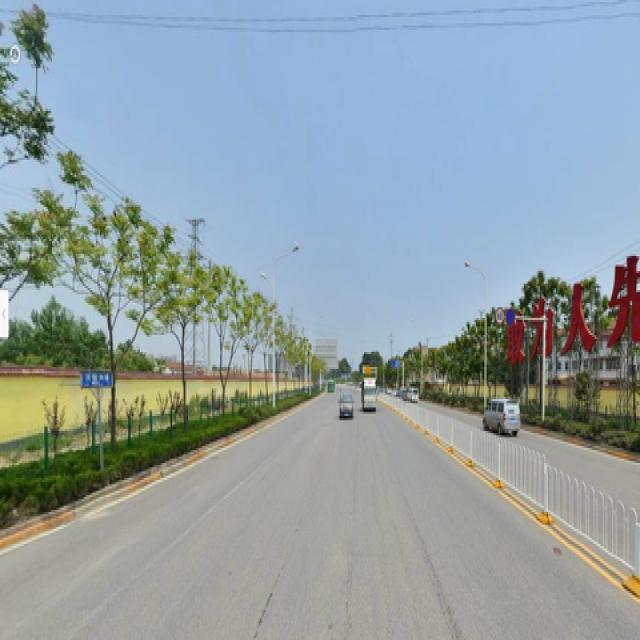koel: (2, 36, 58, 326), (76, 211, 144, 446), (164, 256, 207, 429), (213, 280, 244, 418), (247, 296, 272, 406)
